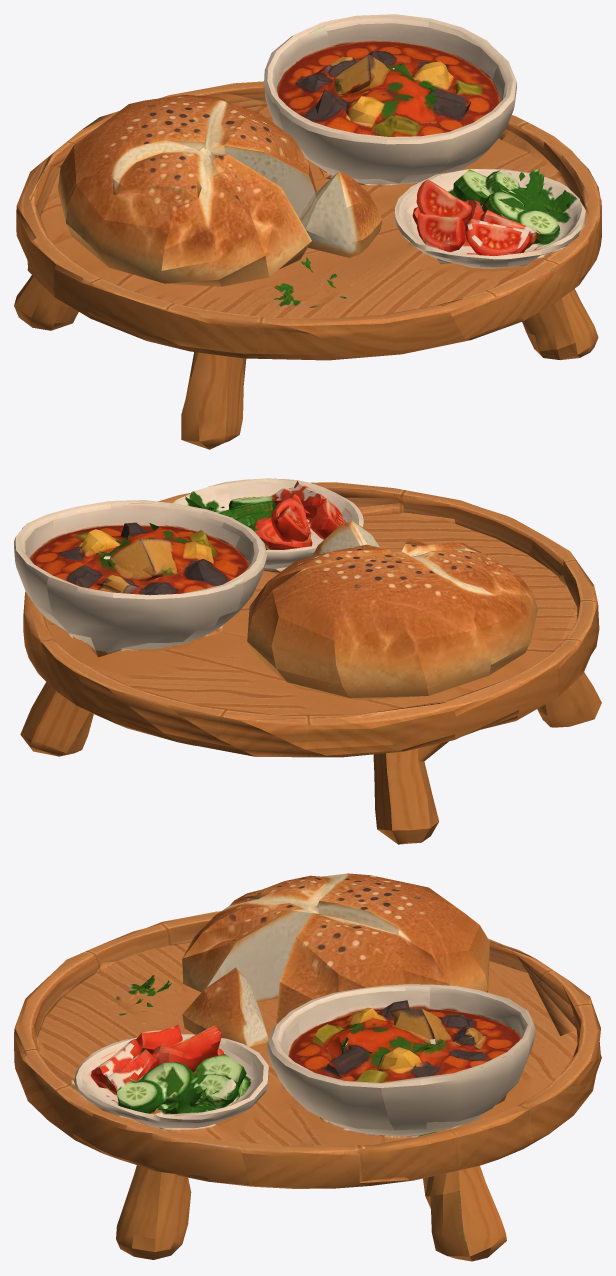
The model's file is koy-sofrasi.glb.
3 views of the same model, one above another, from view 1: azimuth 30°, elevation 25°; view 2: azimuth 150°, elevation 25°; view 3: azimuth 270°, elevation 25° (orthographic). The views are drawn at different scales.
Visible parts, largest first — view 1: Mesh0; view 2: Mesh0; view 3: Mesh0.
Part boxes in pixels (box(x1,y1,x2,y2)): Mesh0: box(14, 14, 601, 449); Mesh0: box(14, 478, 601, 844); Mesh0: box(14, 873, 601, 1261).
Size of the model in its own units: 1.9 by 0.7915 by 1.9.
Materials: 1 (1 with a texture image).
